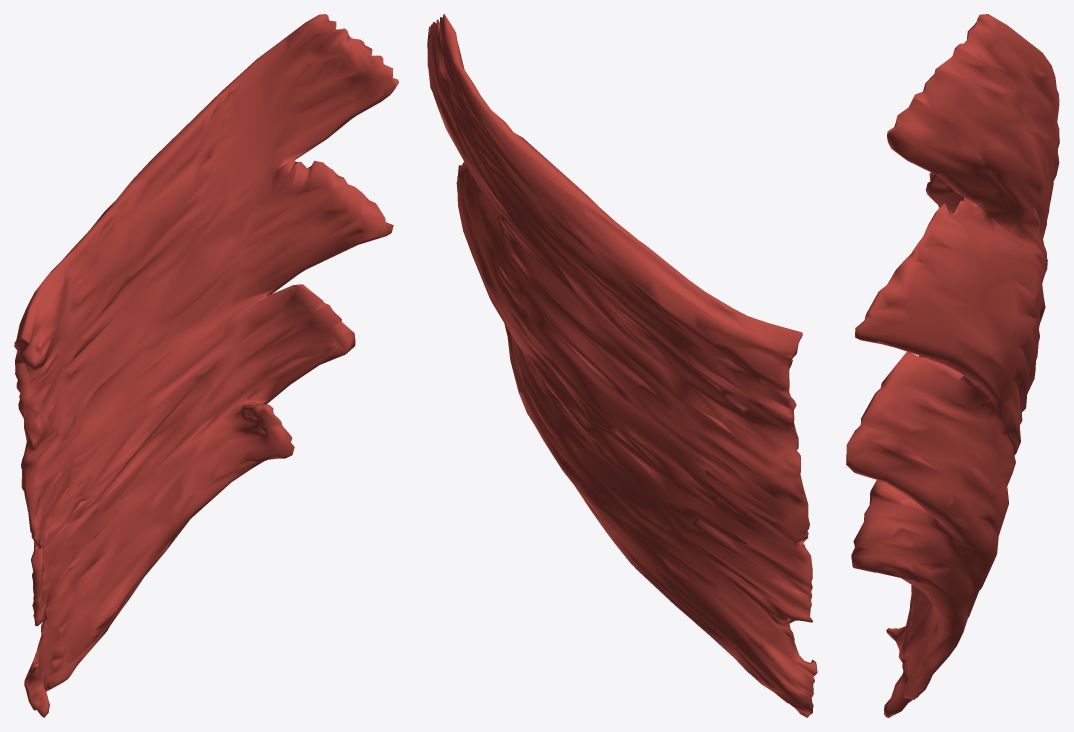
The model's file is musculos-serratus-posterior-inferior-muscle-l.glb.
3 renders of one model, left to right at view 1: azimuth 30°, elevation 25°; view 2: azimuth 150°, elevation 25°; view 3: azimuth 270°, elevation 25°, orthographic. The views are drawn at different scales.
Visible parts, largest first — view 1: Serratus posterior inferior muscle.l; view 2: Serratus posterior inferior muscle.l; view 3: Serratus posterior inferior muscle.l.
Part boxes in pixels (x1=…): Serratus posterior inferior muscle.l: x1=14, y1=14, x2=398, y2=717; Serratus posterior inferior muscle.l: x1=427, y1=14, x2=817, y2=717; Serratus posterior inferior muscle.l: x1=846, y1=14, x2=1059, y2=717.
Size of the model in its own units: 0.1133 by 0.1786 by 0.0369.
